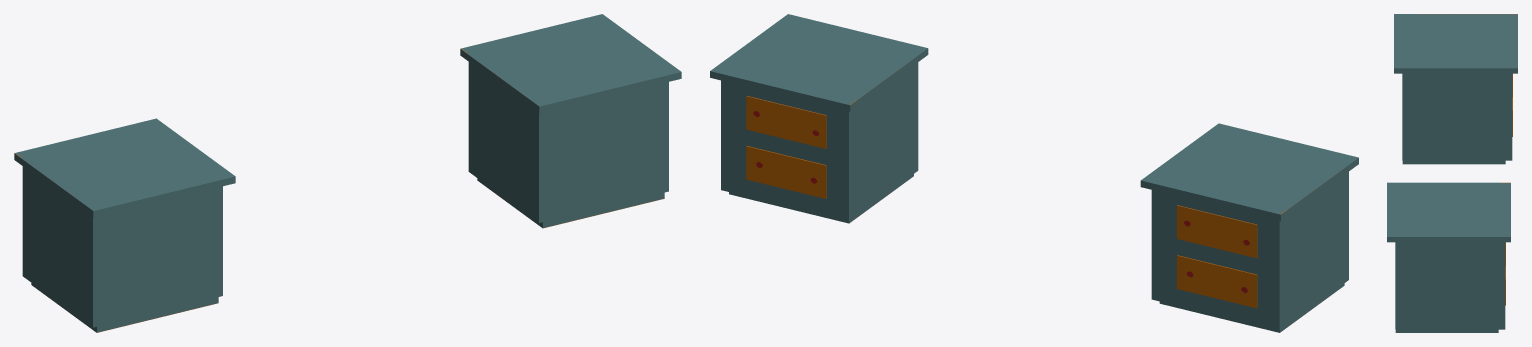
Rendered from Buroes.obj.
The picture shows the model from 3 angles, left to right: view 1: azimuth 30°, elevation 25°; view 2: azimuth 150°, elevation 25°; view 3: azimuth 270°, elevation 25°; orthographic projection. The views are drawn at different scales.
Parts seen in each view (by area): view 1: Cube.006_Cube.018, Cube.022_Cube.023; view 2: Cube.022_Cube.023, Cube.006_Cube.018; view 3: Cube.006_Cube.018, Cube.022_Cube.023.
Part boxes in pixels (left/top/right/bottom): Cube.006_Cube.018: left=460, top=14, right=681, bottom=228; Cube.022_Cube.023: left=14, top=118, right=235, bottom=332; Cube.022_Cube.023: left=1140, top=123, right=1358, bottom=332; Cube.006_Cube.018: left=710, top=14, right=928, bottom=223; Cube.006_Cube.018: left=1387, top=182, right=1510, bottom=332; Cube.022_Cube.023: left=1394, top=14, right=1517, bottom=164.
Bounding box in the file's own units: 29.83 × 6.25 × 7.4.
2 materials, 2 textured.
